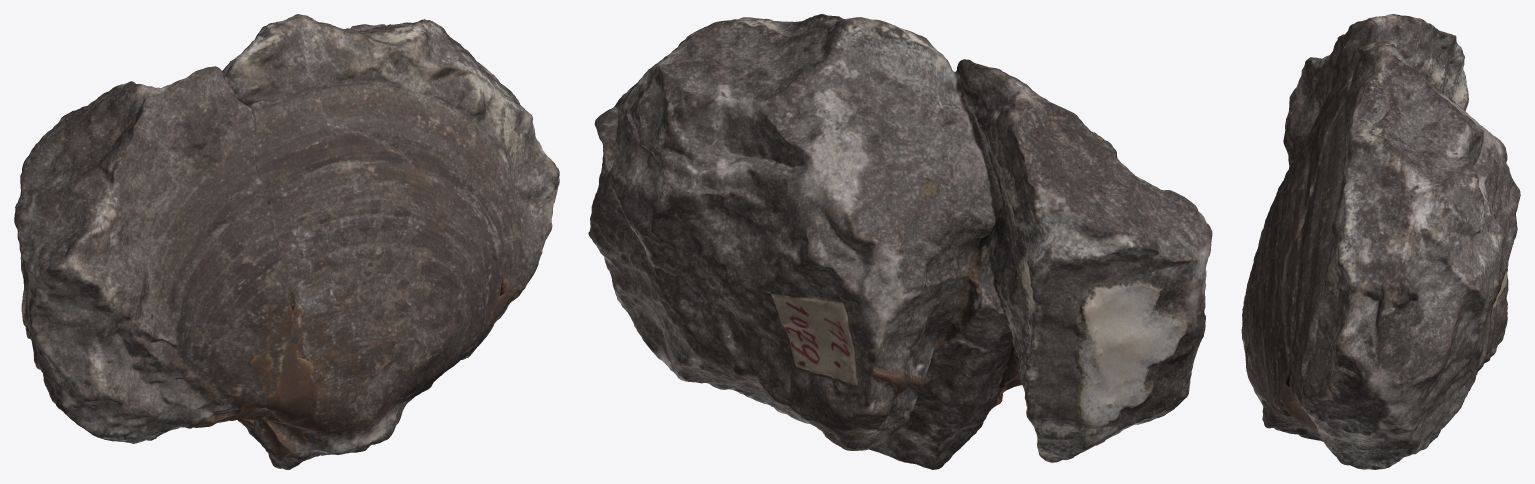
The model's file is EWS0004013.glb.
3 renders of one model, left to right at view 1: azimuth 30°, elevation 25°; view 2: azimuth 150°, elevation 25°; view 3: azimuth 270°, elevation 25°, orthographic. The views are drawn at different scales.
Parts seen in each view (by area): view 1: input; view 2: input; view 3: input.
Boxes of the visible parts, x1,y1,x2,y2 form: input: [14, 14, 559, 469]; input: [588, 14, 1212, 469]; input: [1241, 14, 1520, 469].
Size of the model in its own units: 0.0543 by 0.0409 by 0.0261.
1 material, 1 textured.
